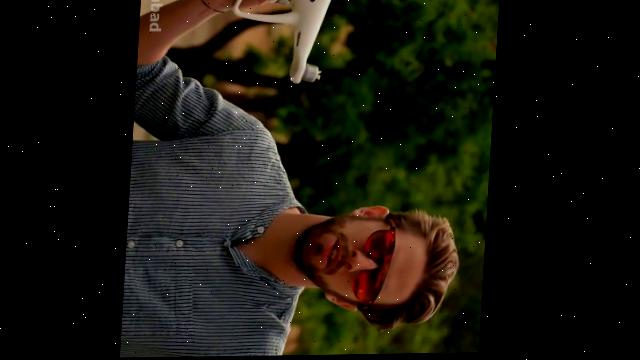drone: (209, 0, 390, 87)
